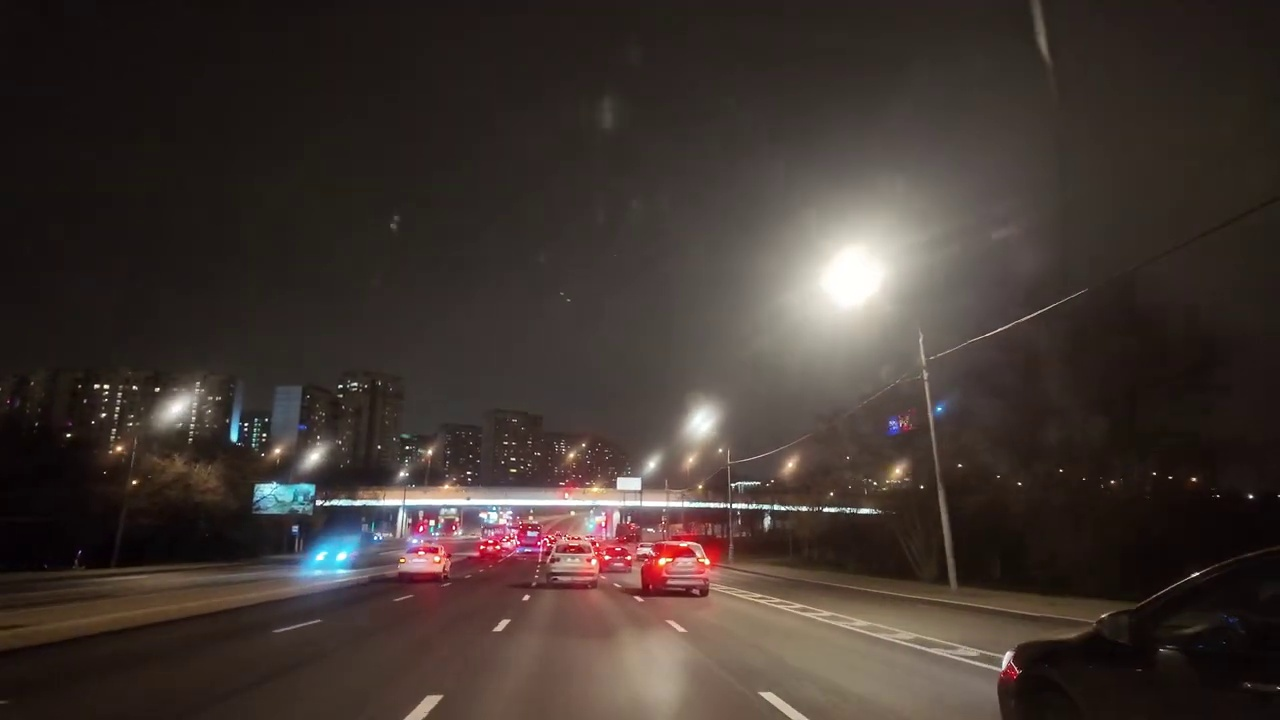acesa: (819, 243, 891, 314), (681, 401, 723, 448)
